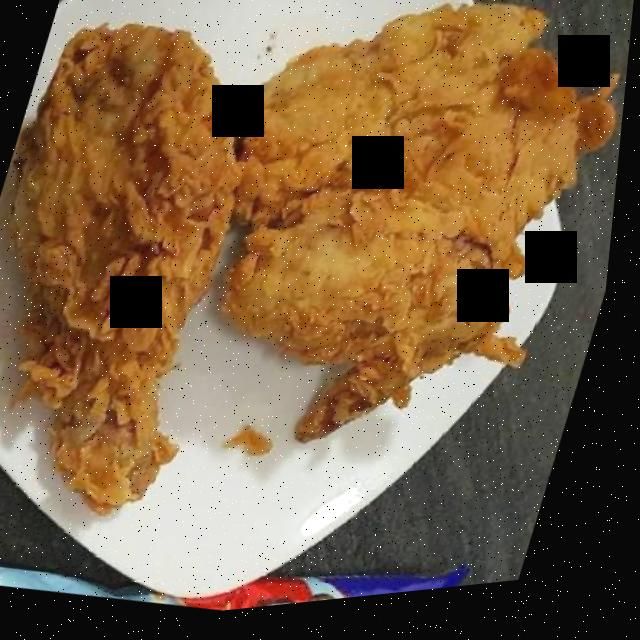Frango: (157, 0, 640, 510), (0, 0, 297, 530)
